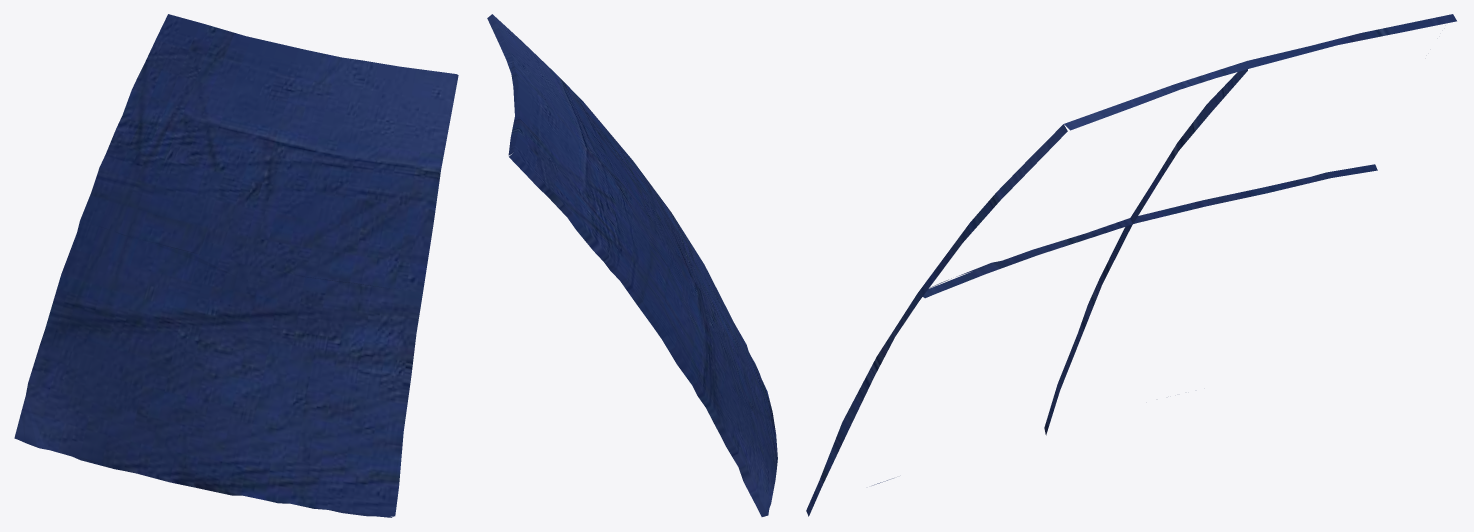
3 renders of one model, left to right at view 1: azimuth 30°, elevation 25°; view 2: azimuth 150°, elevation 25°; view 3: azimuth 270°, elevation 25°, orthographic. The views are drawn at different scales.
Bounding box in the file's own units: 2288975 × 2102760 × 2471598.
1 material, 1 textured.
